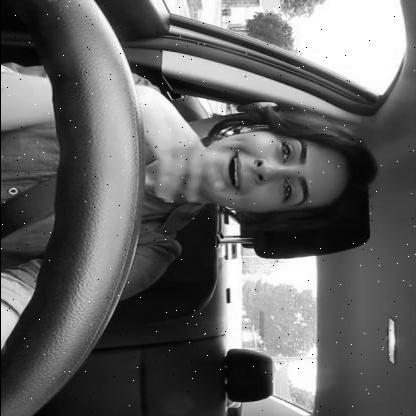seatbelt: (0, 102, 388, 248)
